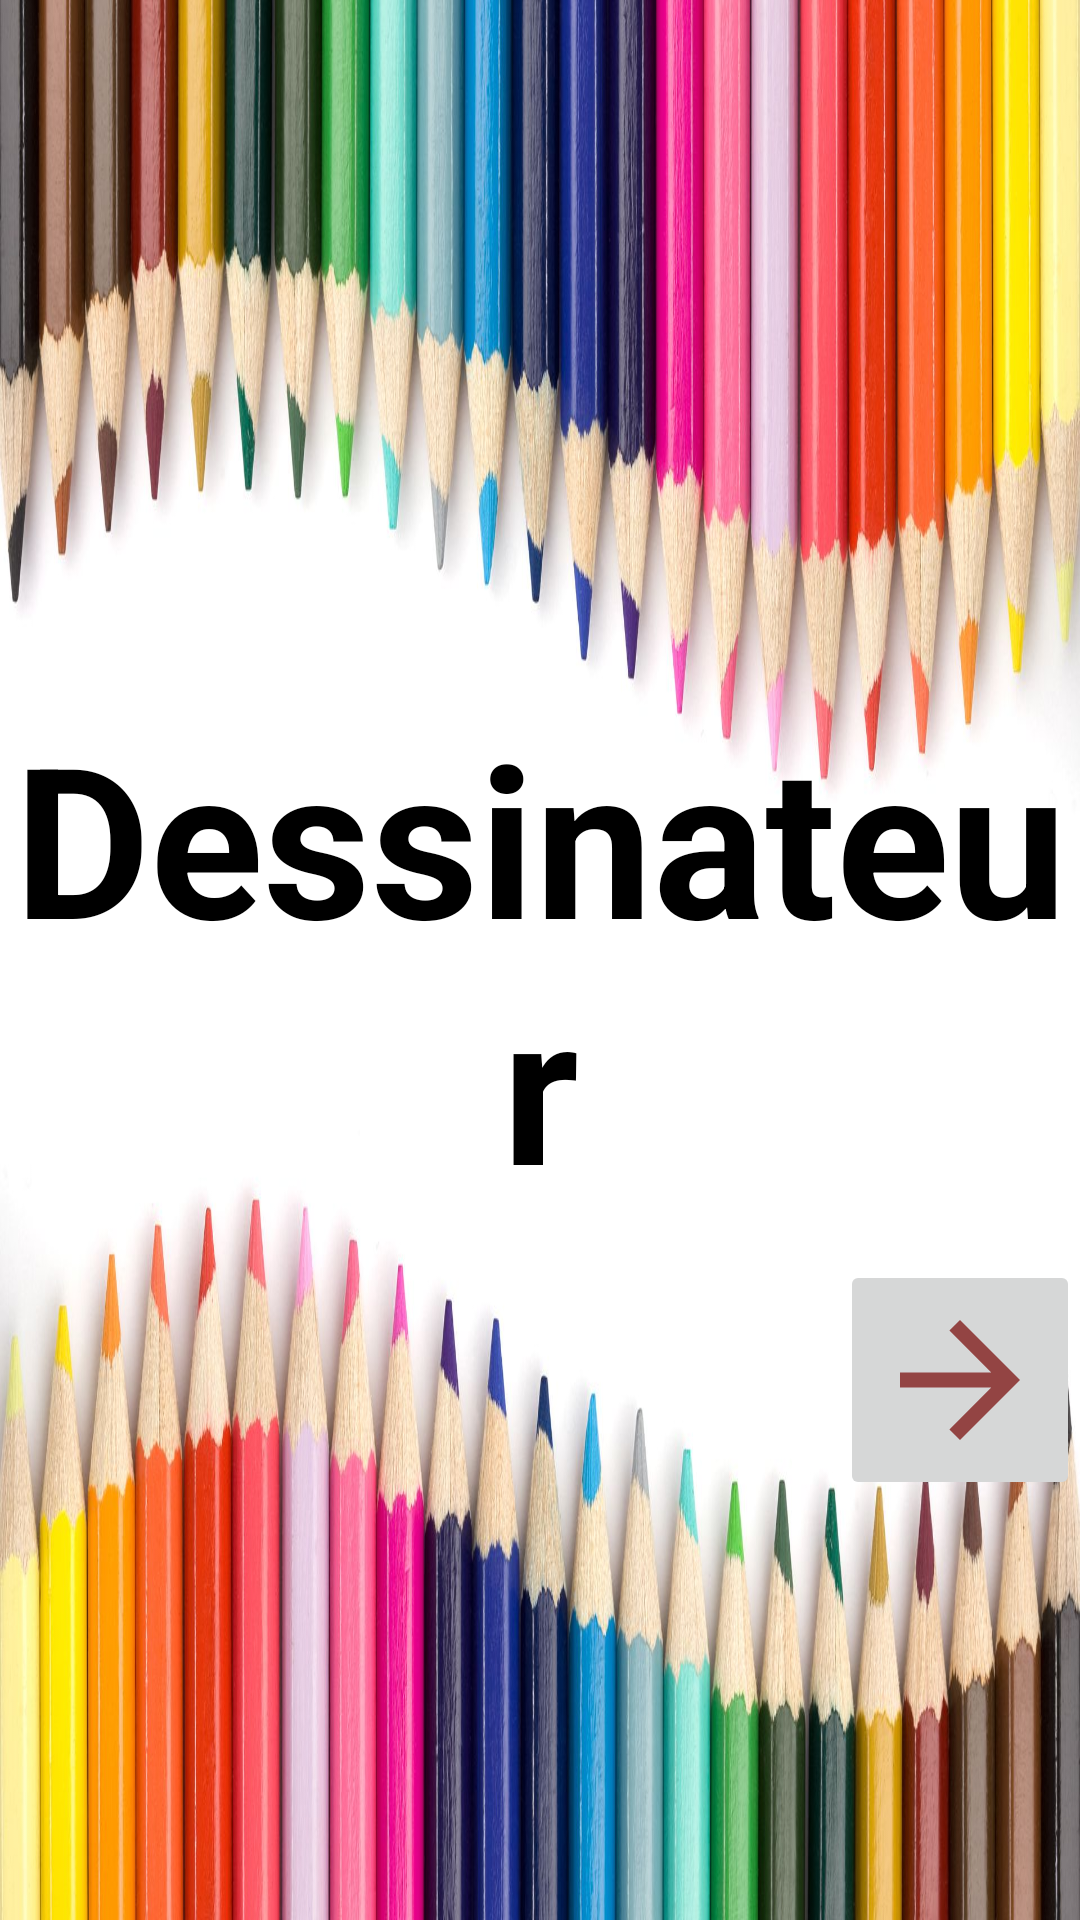

Where icons sit on this 1080 x 1920 app screen, as (x1, y1, x2, y2):
arrow forward: (852, 1278, 1079, 1500)
